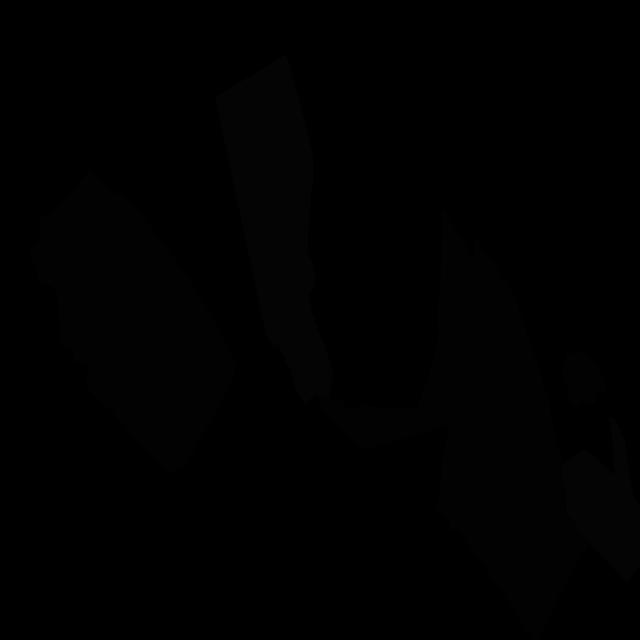cardboard: (30, 169, 236, 473), (434, 238, 589, 640), (319, 208, 532, 448), (561, 352, 606, 411)
soft_plastic: (215, 55, 334, 403), (561, 416, 640, 583)
